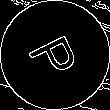P_NE: (24, 27, 86, 83)
